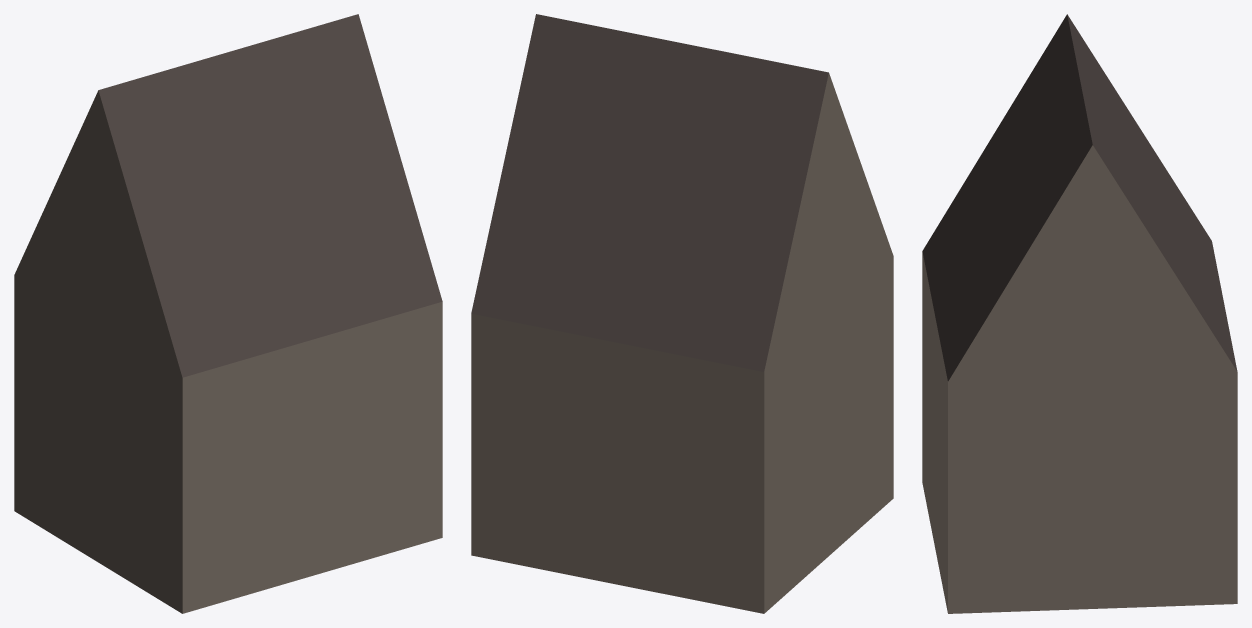
3 renders of one model, left to right at view 1: azimuth 30°, elevation 25°; view 2: azimuth 150°, elevation 25°; view 3: azimuth 270°, elevation 25°, orthographic. The views are drawn at different scales.
Visible parts, largest first — view 1: HP-w428179911; view 2: HP-w428179911; view 3: HP-w428179911.
Boxes of the visible parts, x1,y1,x2,y2 form: HP-w428179911: (14,14,442,613); HP-w428179911: (471,14,893,613); HP-w428179911: (922,14,1237,613).
Size of the model in its own units: 3.91 by 6 by 3.69.
